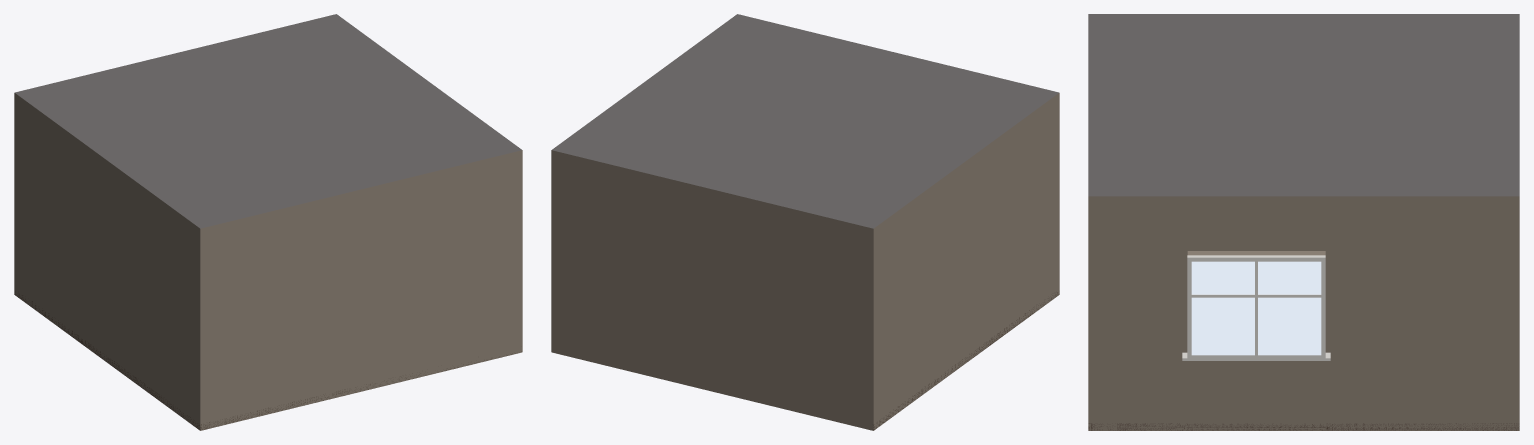
The model's file is studio.glb.
3 views of the same model, side by side, from view 1: azimuth 30°, elevation 25°; view 2: azimuth 150°, elevation 25°; view 3: azimuth 270°, elevation 25° (orthographic). The views are drawn at different scales.
Parts seen in each view (by area): view 1: Walls, Ceiling; view 2: Walls, Ceiling; view 3: Walls, Ceiling, Window, WindowFrame.
Part boxes in pixels (left/top/right/bottom): Walls: left=14, top=93, right=522, bottom=430; Ceiling: left=15, top=14, right=521, bottom=228; Walls: left=551, top=93, right=1059, bottom=430; Ceiling: left=552, top=14, right=1058, bottom=228; Walls: left=1088, top=196, right=1519, bottom=430; Ceiling: left=1088, top=14, right=1519, bottom=196; Window: left=1191, top=261, right=1321, bottom=355; WindowFrame: left=1182, top=255, right=1330, bottom=360.
Bounding box in the file's own units: 5.18 × 3 × 5.
